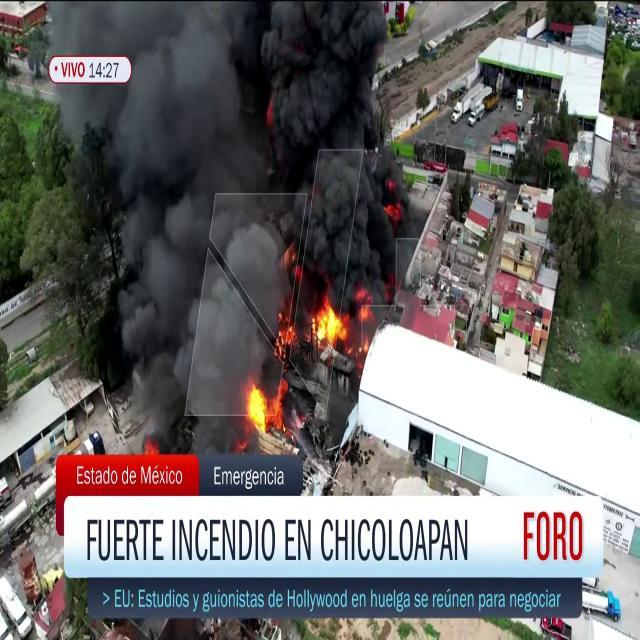Fire: (241, 372, 287, 442), (309, 292, 349, 353)
Smoke: (58, 1, 410, 282)
